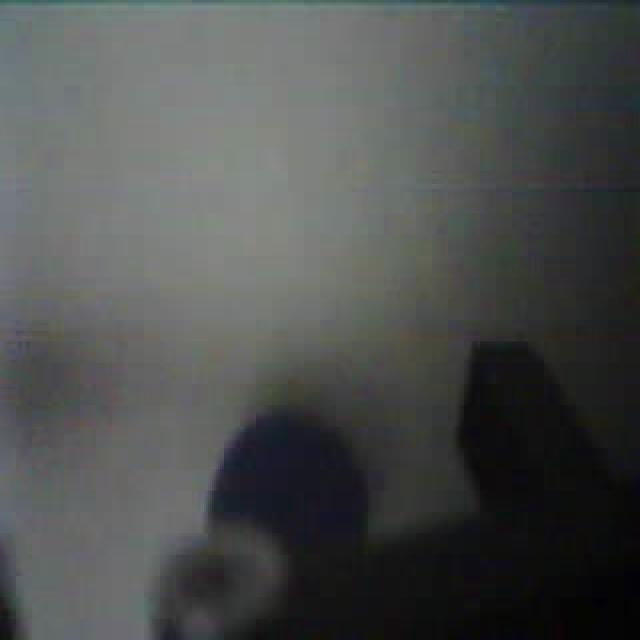blue_ball: (194, 389, 373, 557)
